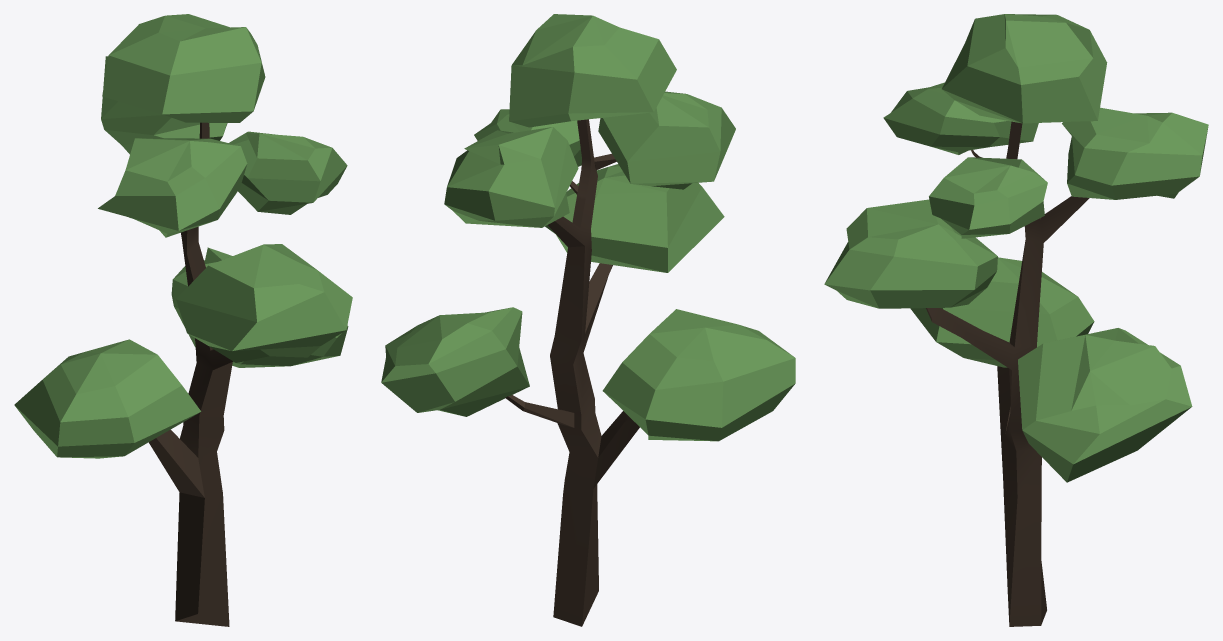
Rendered from Tree1.fbx.
3 views of the same model, side by side, from view 1: azimuth 30°, elevation 25°; view 2: azimuth 150°, elevation 25°; view 3: azimuth 270°, elevation 25° (orthographic). The views are drawn at different scales.
Visible parts, largest first — view 1: pSphere8; view 2: pSphere8; view 3: pSphere8.
Part boxes in pixels (x1,y1,x2,y2): pSphere8: (14, 14, 352, 626); pSphere8: (381, 14, 795, 626); pSphere8: (824, 14, 1208, 626).
Size of the model in its own units: 1183 by 1935 by 1135.
